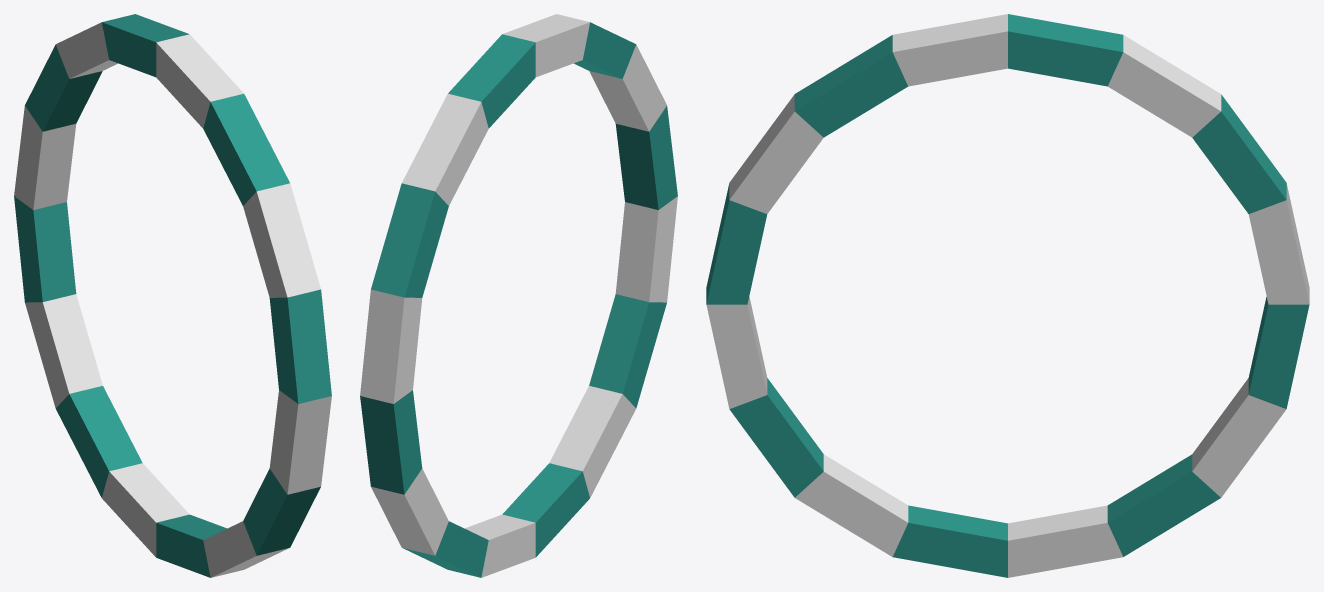
Rendered from CircleBroken.fbx.
3 renders of one model, left to right at view 1: azimuth 30°, elevation 25°; view 2: azimuth 150°, elevation 25°; view 3: azimuth 270°, elevation 25°, orthographic. The views are drawn at different scales.
Parts seen in each view (by area): view 1: CircleLeft, CircleRight; view 2: CircleRight, CircleLeft; view 3: CircleLeft, CircleRight.
Part boxes in pixels (left/top/right/bottom): CircleLeft: left=156, top=34, right=331, bottom=577; CircleRight: left=14, top=14, right=189, bottom=557; CircleRight: left=360, top=34, right=535, bottom=577; CircleLeft: left=502, top=14, right=677, bottom=557; CircleLeft: left=706, top=14, right=1007, bottom=577; CircleRight: left=1008, top=14, right=1309, bottom=577.
Bounding box in the file's own units: 13.65 × 200 × 200.
